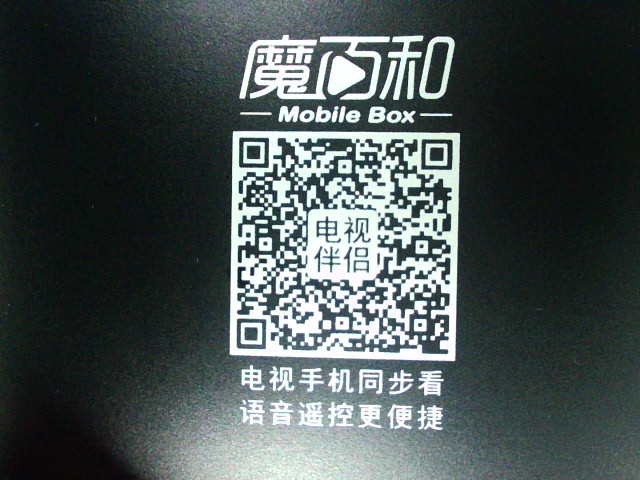AZ_MobileBox: (229, 28, 465, 440)
